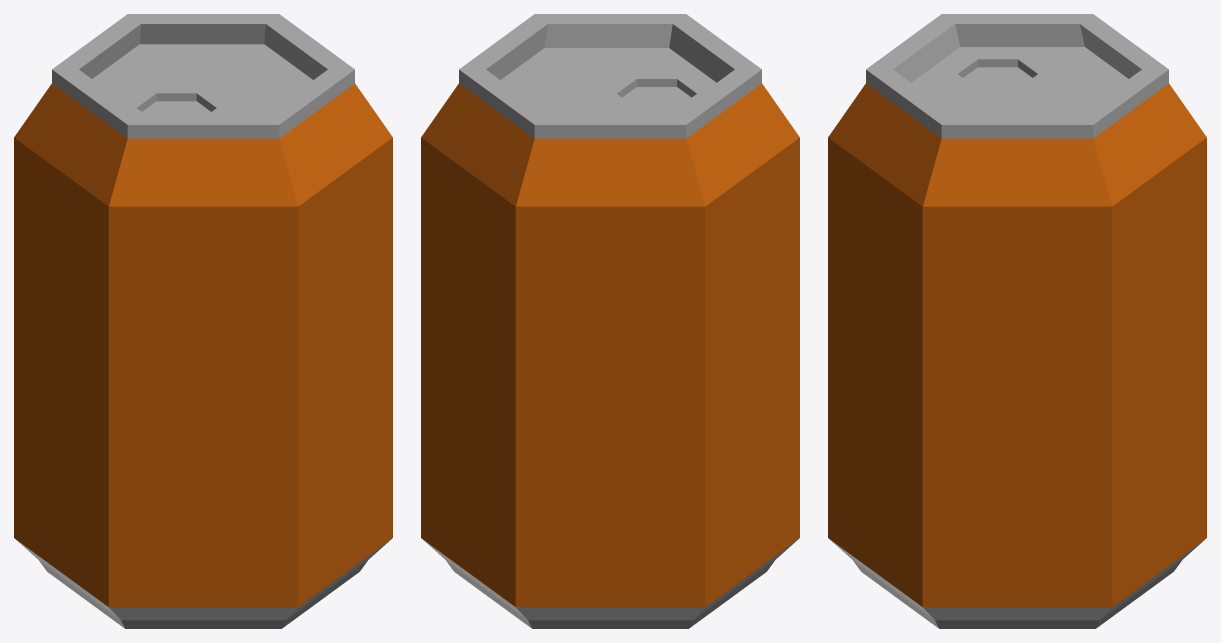
The model's file is Soda Orange.fbx.
3 views of the same model, side by side, from view 1: azimuth 30°, elevation 25°; view 2: azimuth 150°, elevation 25°; view 3: azimuth 270°, elevation 25° (orthographic).
Visible parts, largest first — view 1: Soda Orange; view 2: Soda Orange; view 3: Soda Orange.
Boxes of the visible parts, x1,y1,x2,y2 form: Soda Orange: (14, 14, 392, 628); Soda Orange: (421, 14, 799, 628); Soda Orange: (828, 14, 1206, 628).
Bounding box in the file's own units: 11.99 × 13.85 × 20.25.
